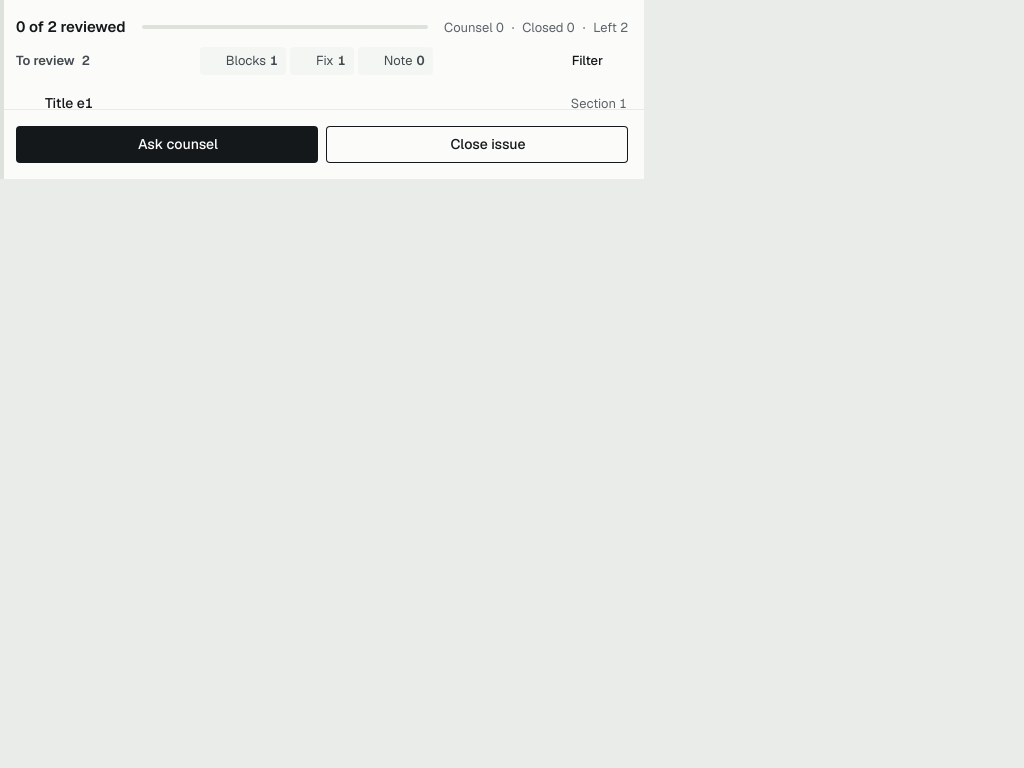
Scenario: findings-v2-panel-ui › code review fixes › R5: hides the note field for "Real issue"
Click the button with test id "action-dismiss".
click(477, 144)  # box [326,126,628,162]
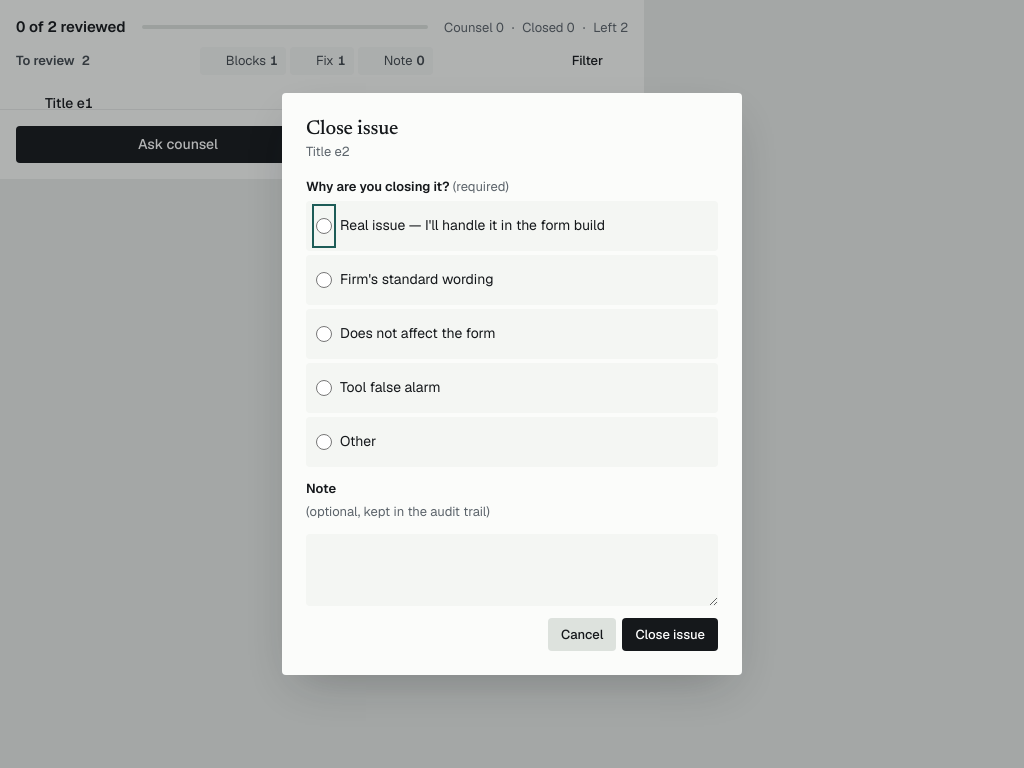
Check: the text box with test id "dismiss-note" is shown, box [306,534,718,606]
Click the radio button labelled "Real issue — I'll handle it in the form build".
click(324, 226)  # box [316,208,332,244]
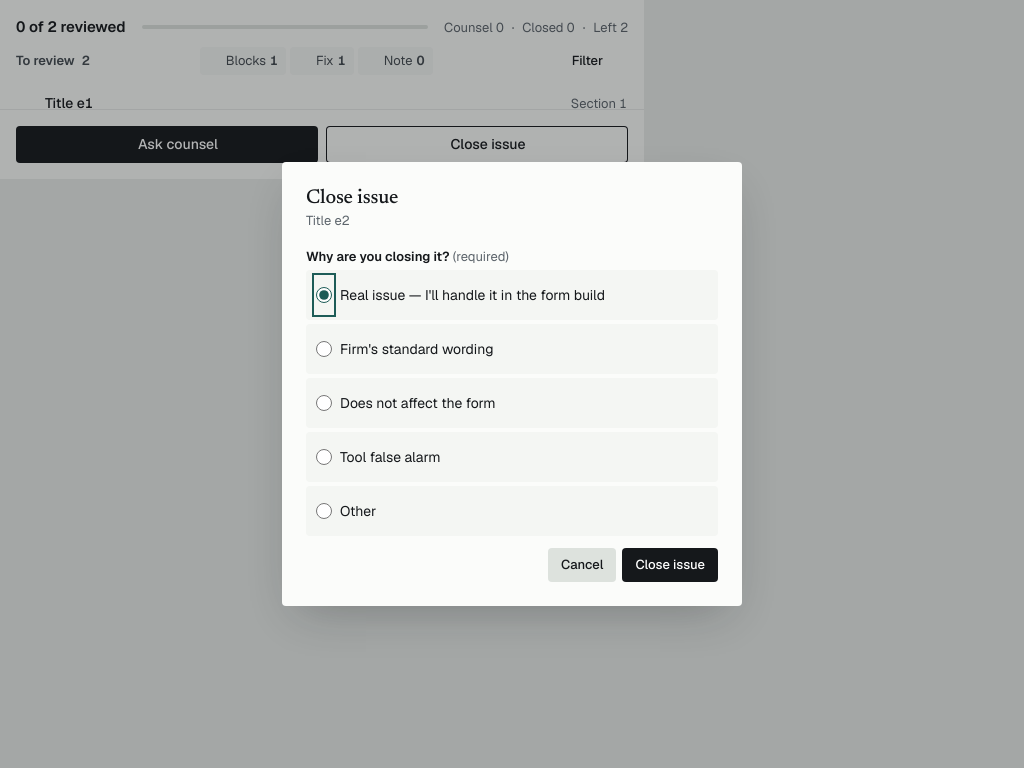
Check: the label with test id "dismiss-note" is gone
Click the radio button labelled "Tool false alarm".
click(324, 457)  # box [316,439,332,475]
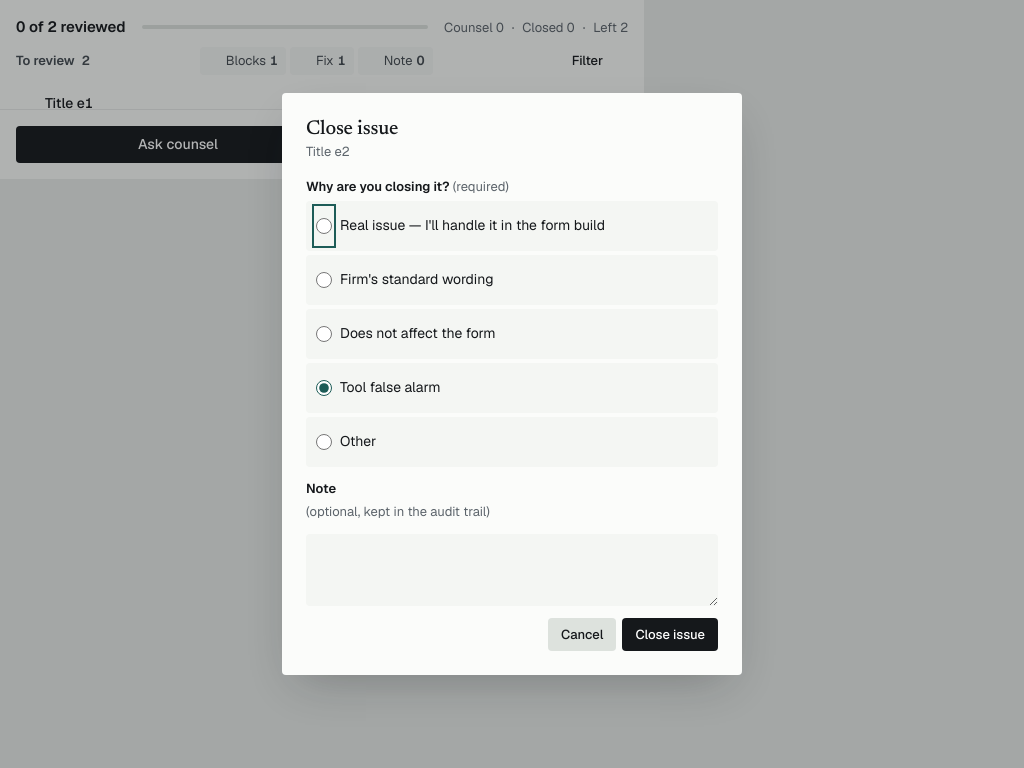
Check: the text box with test id "dismiss-note" is shown, box [306,534,718,606]
